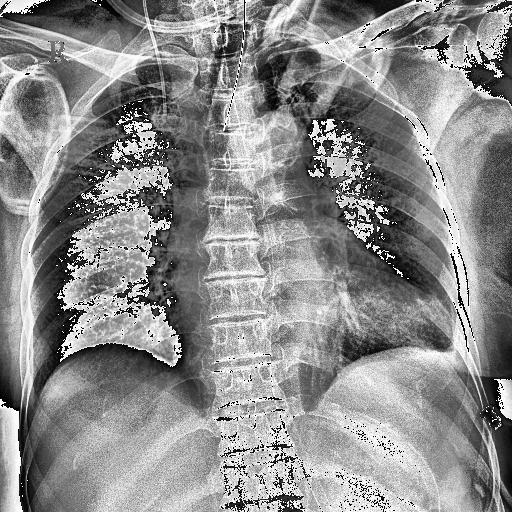10- Pleural effusion: (376, 301, 487, 397), (410, 282, 470, 370)
3- Cardiomegaly: (153, 208, 455, 399), (138, 268, 470, 380)
9- Other lesion: (228, 139, 320, 492), (3, 57, 142, 245), (110, 1, 258, 136)
